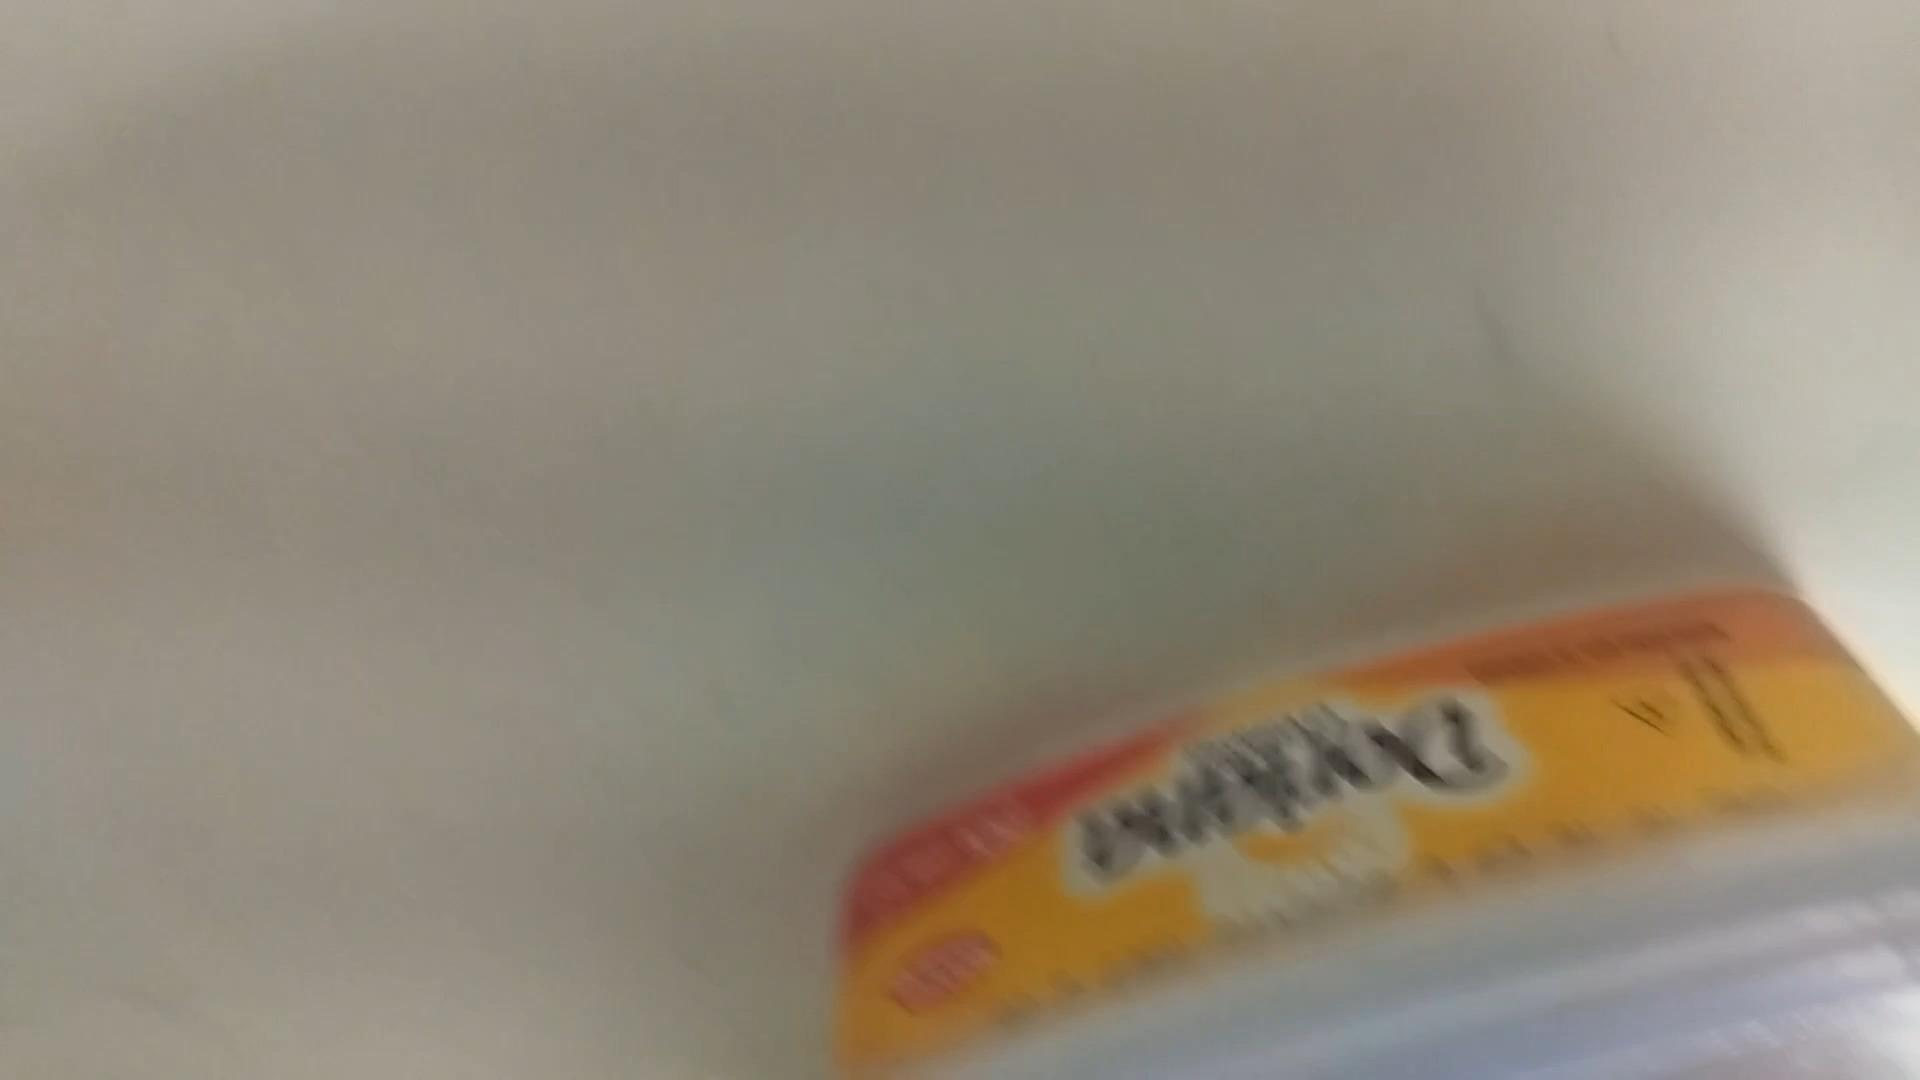butter: (812, 582, 1920, 1080)
